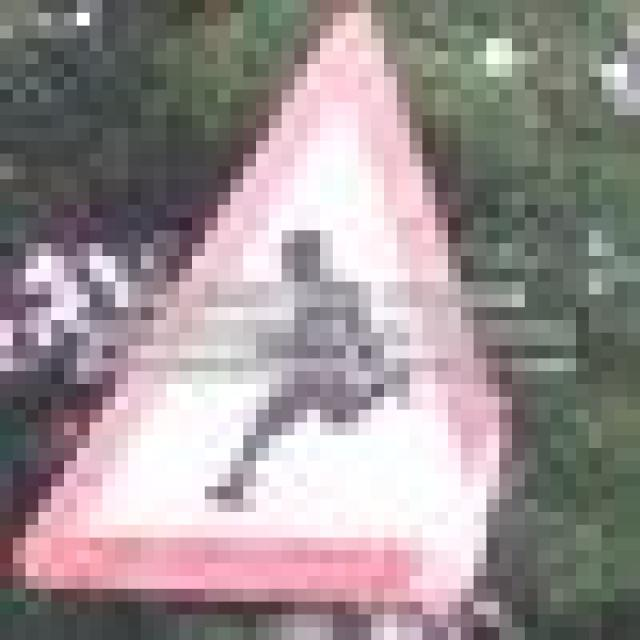SCHOOL_AHEAD: (0, 0, 499, 614)
